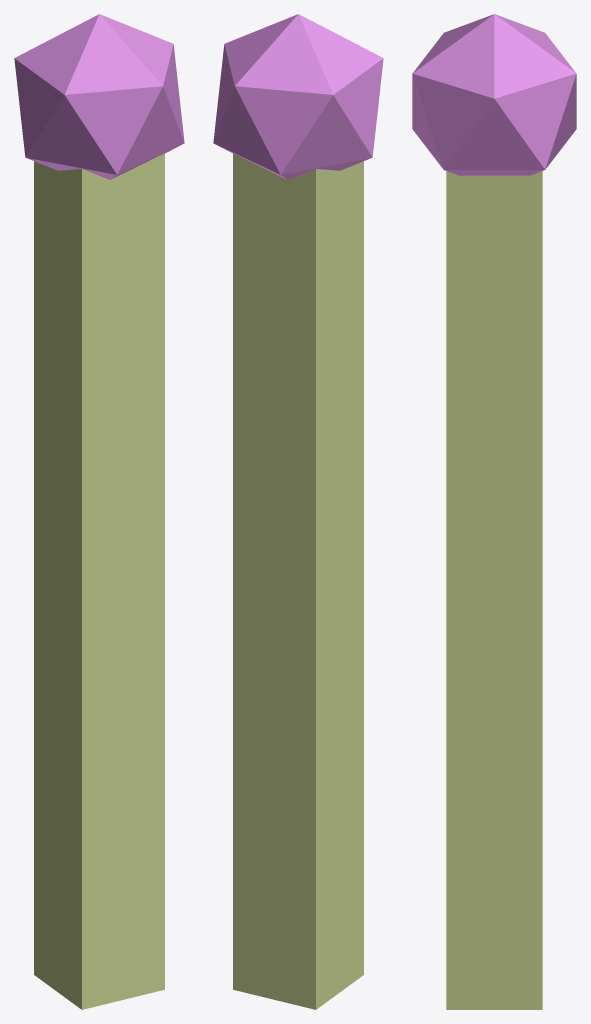
Rendered from graybox_conduit_endpoint.fbx.
3 views of the same model, side by side, from view 1: azimuth 30°, elevation 25°; view 2: azimuth 150°, elevation 25°; view 3: azimuth 270°, elevation 25° (orthographic).
Parts seen in each view (by area): view 1: Pole; view 2: Pole; view 3: Pole.
Part boxes in pixels (box(x1,y1,x2,y2)): Pole: box(14, 14, 184, 1009); Pole: box(213, 14, 383, 1009); Pole: box(412, 14, 576, 1009).
Size of the model in its own units: 17.89 by 112 by 17.01.
